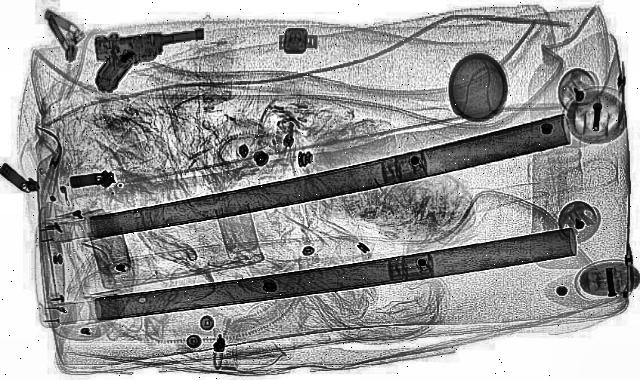Gun: (68, 18, 230, 92)
